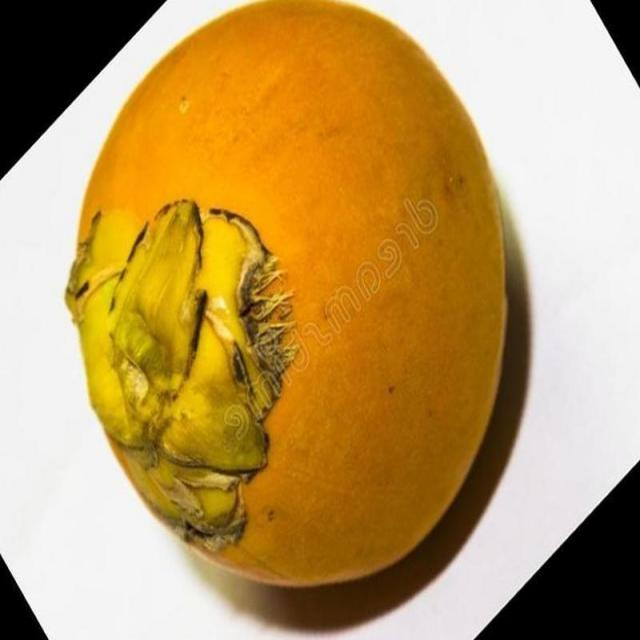good: (63, 0, 514, 594)
